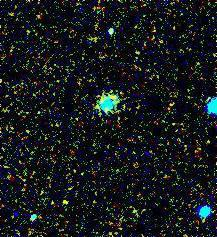star: (55, 185, 85, 215)
